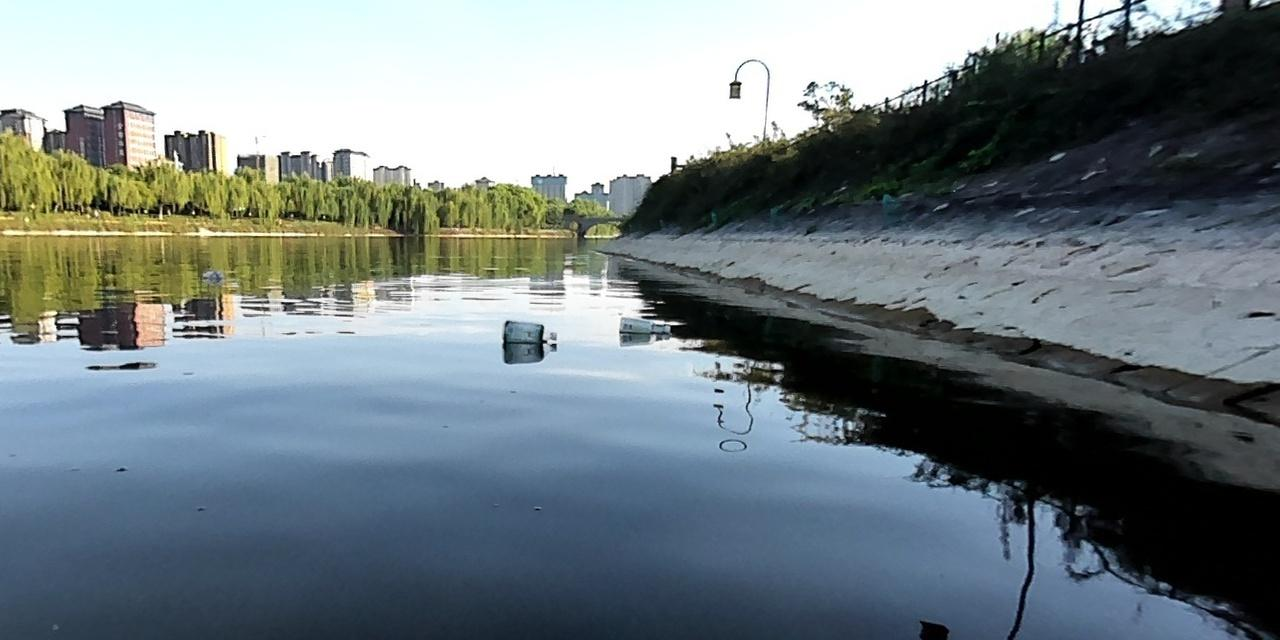bottle: (498, 313, 560, 345), (614, 312, 672, 337), (199, 266, 227, 282)
